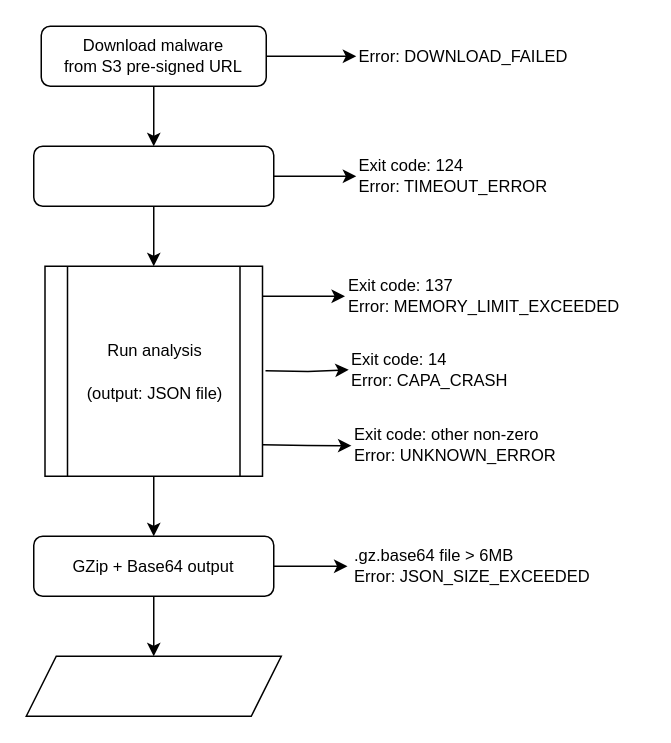
Some shapes in this 671 by 743 pixel diagram are drawn without their labels. Each missing label, with the centre of its shape:
"Limit execution time to 13 minutes" belongs at point (153, 175).
"Return out.gz.base64 file" belongs at point (153, 685).
